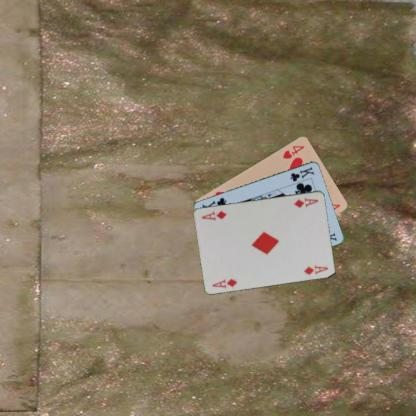4h: (280, 143, 306, 160)
Ad: (210, 276, 238, 290), (292, 195, 319, 209)
Kc: (288, 164, 315, 183)
